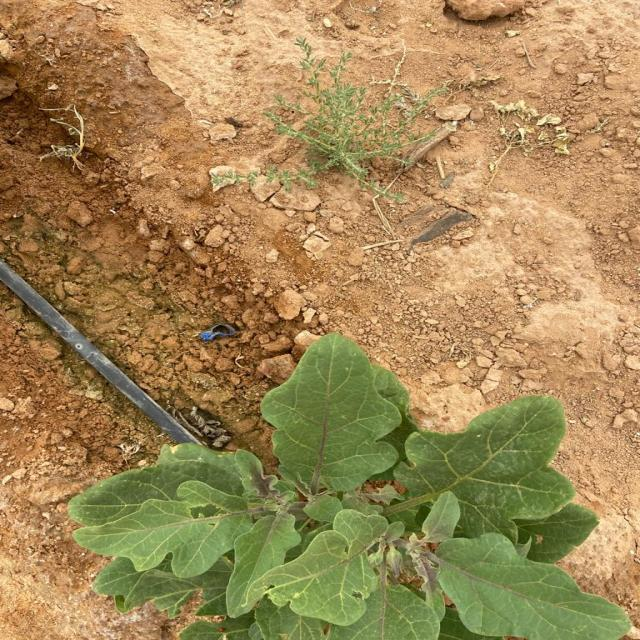eggplant: (68, 334, 632, 640)
weeds: (268, 37, 446, 180)
